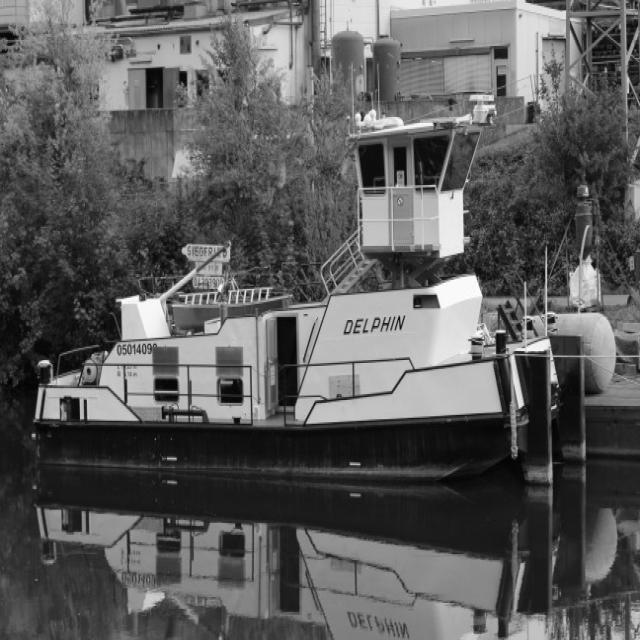tugboat: (30, 88, 592, 502)
